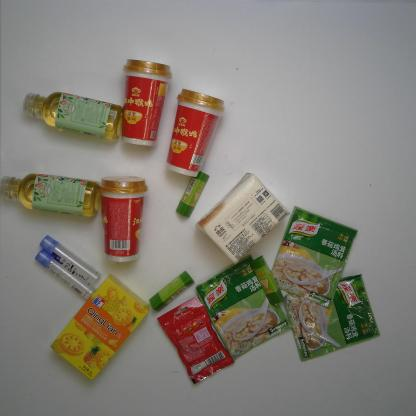Candy: (154, 292, 236, 385)
Dessert: (48, 272, 153, 384)
Drink: (21, 90, 126, 143), (0, 172, 102, 220)
Instant Drink: (164, 86, 227, 178), (120, 56, 174, 148), (96, 174, 150, 265)
Seasoner: (192, 253, 296, 363), (268, 204, 359, 312), (282, 272, 382, 363)
Stationery: (37, 233, 103, 287), (34, 248, 98, 301), (248, 253, 287, 308), (147, 270, 196, 313), (174, 169, 211, 219)
Tissue: (192, 170, 292, 268)
